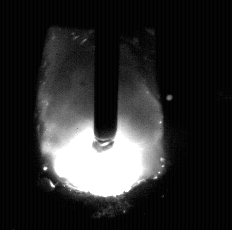arame: (95, 0, 119, 151)
poca: (39, 0, 164, 230)
